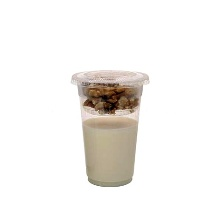glass: (64, 65, 156, 191)
